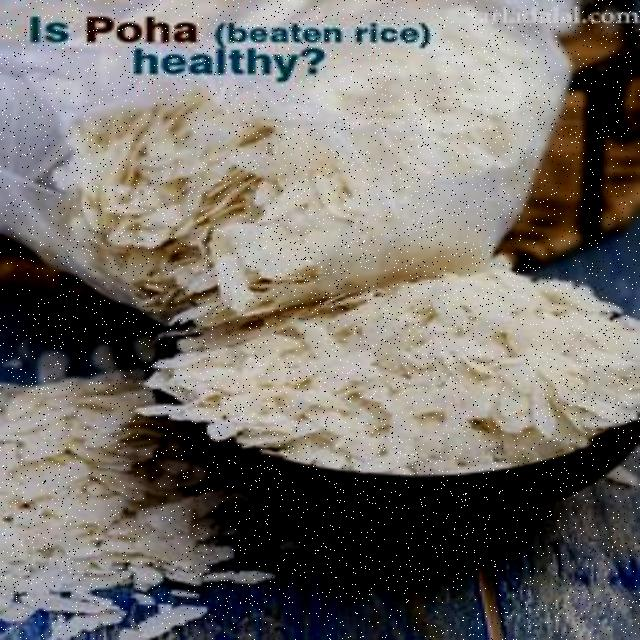Beaten Rice: (249, 319, 603, 437), (11, 391, 201, 609), (133, 152, 332, 273)
